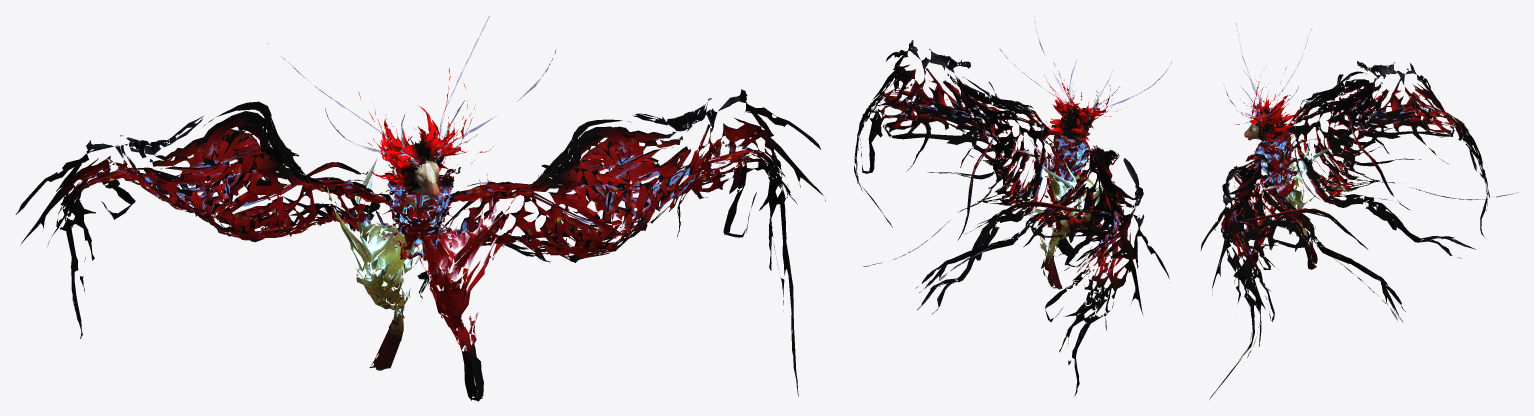
The model's file is Baize.glb.
3 views of the same model, side by side, from view 1: azimuth 30°, elevation 25°; view 2: azimuth 150°, elevation 25°; view 3: azimuth 270°, elevation 25° (orthographic). The views are drawn at different scales.
Parts seen in each view (by area): view 1: Bai-ze-L-lower-Wing_Baked, Bai-ze-R-lower-Wing_Baked.001, Retopo_02-Bai-ze-L-LEG, Retopo_02-Bai-ze-R-LEG, 02-Bai-ze-TORSO, crown, horns_Baked, Retopo_02-Bai-ze-HEAD.001; view 2: Bai-ze-L-lower-Wing_Baked, Bai-ze-R-lower-Wing_Baked.001, Retopo_02-Bai-ze-R-LEG, crown, 02-Bai-ze-TORSO, Retopo_02-Bai-ze-L-LEG, horns_Baked; view 3: Bai-ze-R-lower-Wing_Baked.001, Bai-ze-L-lower-Wing_Baked, 02-Bai-ze-TORSO, crown, Retopo_02-Bai-ze-R-LEG, Retopo_02-Bai-ze-L-LEG, horns_Baked, Retopo_02-Bai-ze-HEAD.001.
Part boxes in pixels (x1,y1,x2,y2): Bai-ze-L-lower-Wing_Baked: [417, 89, 825, 396]; Bai-ze-R-lower-Wing_Baked.001: [15, 101, 411, 338]; Retopo_02-Bai-ze-L-LEG: [417, 174, 516, 401]; Retopo_02-Bai-ze-R-LEG: [327, 159, 422, 370]; 02-Bai-ze-TORSO: [378, 156, 474, 260]; crown: [358, 68, 493, 193]; horns_Baked: [267, 16, 555, 165]; Retopo_02-Bai-ze-HEAD.001: [399, 146, 444, 199]; Bai-ze-L-lower-Wing_Baked: [854, 40, 1065, 313]; Bai-ze-R-lower-Wing_Baked.001: [915, 145, 1169, 395]; Retopo_02-Bai-ze-R-LEG: [1022, 158, 1102, 289]; crown: [1044, 62, 1121, 144]; 02-Bai-ze-TORSO: [1025, 127, 1090, 191]; Retopo_02-Bai-ze-L-LEG: [994, 121, 1086, 256]; horns_Baked: [999, 16, 1171, 112]; Bai-ze-R-lower-Wing_Baked.001: [1274, 61, 1518, 258]; Bai-ze-L-lower-Wing_Baked: [1200, 153, 1405, 399]; 02-Bai-ze-TORSO: [1254, 129, 1316, 196]; crown: [1235, 67, 1297, 144]; Retopo_02-Bai-ze-R-LEG: [1263, 135, 1351, 269]; Retopo_02-Bai-ze-L-LEG: [1233, 169, 1295, 279]; horns_Baked: [1223, 23, 1311, 118]; Retopo_02-Bai-ze-HEAD.001: [1244, 114, 1272, 145].
Size of the model in its own units: 4.06 by 2.44 by 2.8.
Materials: 9 (8 with a texture image).
